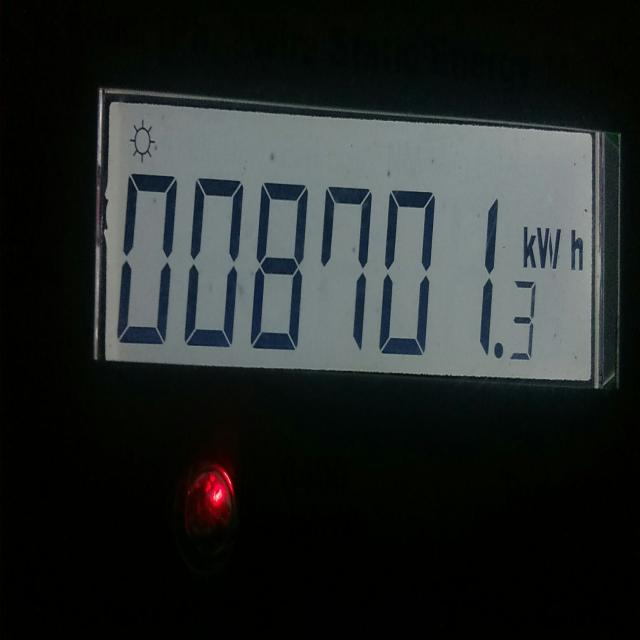.: (491, 333, 506, 372)
0: (374, 185, 442, 366), (183, 163, 246, 358), (116, 165, 177, 352)
1: (461, 174, 498, 367)
3: (508, 269, 540, 367)
7: (319, 169, 378, 359)
8: (247, 166, 313, 360)
